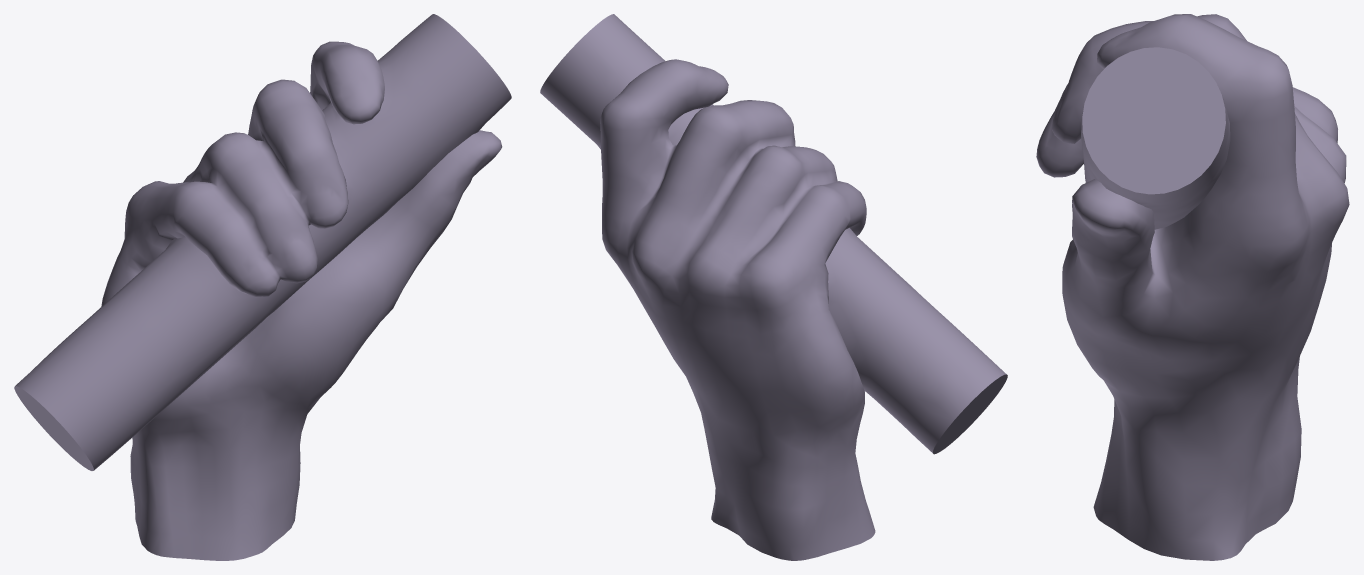
The model's file is 手_20260324195438_opt.glb.
3 renders of one model, left to right at view 1: azimuth 30°, elevation 25°; view 2: azimuth 150°, elevation 25°; view 3: azimuth 270°, elevation 25°, orthographic. The views are drawn at different scales.
Parts seen in each view (by area): view 1: Shell001; view 2: Shell001; view 3: Shell001.
Boxes of the visible parts, <box> form: Shell001: <box>14,14,511,560</box>; Shell001: <box>540,14,1007,560</box>; Shell001: <box>1036,14,1349,560</box>.
Size of the model in its own units: 0.4211 by 0.4 by 0.1893.
